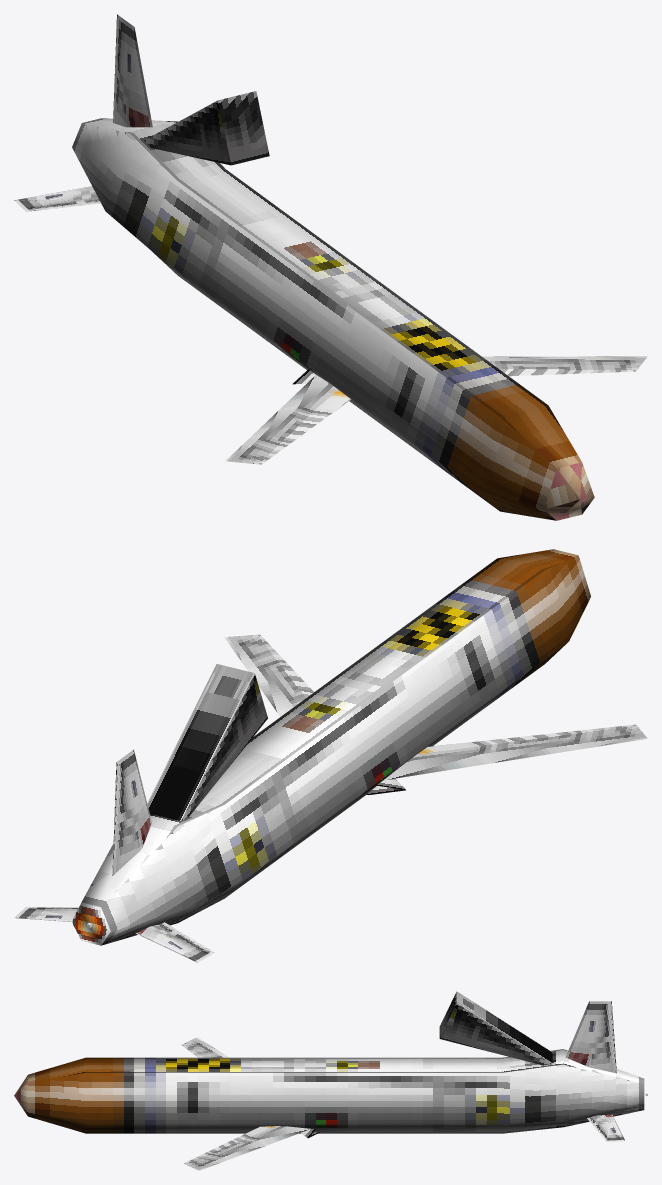
File: mis14.obj
3 views of the same model, one above another, from view 1: azimuth 30°, elevation 25°; view 2: azimuth 150°, elevation 25°; view 3: azimuth 270°, elevation 25° (orthographic). The views are drawn at different scales.
Parts seen in each view (by area): view 1: frm-mfuselg, frm-tafuselg, frm-lwingz1, frm-tafinz, frm-lwingz, frm-alfinz1; view 2: frm-mfuselg, frm-tafuselg, frm-lwingz1, frm-lwingz, frm-tafinz, frm-alfinz1, frm-alfinz; view 3: frm-mfuselg, frm-tafuselg, frm-tafinz, frm-lwingz, frm-alfinz, frm-lwingz1.
Part boxes in pixels (x1=…): frm-mfuselg: x1=72, y1=118, x2=594, y2=520; frm-tafuselg: x1=144, y1=91, x2=269, y2=165; frm-lwingz1: x1=225, y1=375, x2=350, y2=464; frm-tafinz: x1=113, y1=14, x2=152, y2=127; frm-lwingz: x1=292, y1=356, x2=647, y2=384; frm-alfinz1: x1=14, y1=186, x2=100, y2=211; frm-mfuselg: x1=71, y1=549, x2=590, y2=945; frm-tafuselg: x1=147, y1=664, x2=267, y2=820; frm-lwingz1: x1=384, y1=724, x2=647, y2=780; frm-lwingz: x1=224, y1=634, x2=405, y2=794; frm-tafinz: x1=112, y1=749, x2=151, y2=875; frm-alfinz1: x1=135, y1=922, x2=214, y2=962; frm-alfinz: x1=14, y1=907, x2=78, y2=921; frm-mfuselg: x1=14, y1=1049, x2=644, y2=1133; frm-tafuselg: x1=439, y1=991, x2=552, y2=1065; frm-tafinz: x1=565, y1=1001, x2=616, y2=1073; frm-lwingz: x1=184, y1=1126, x2=310, y2=1170; frm-alfinz: x1=587, y1=1114, x2=625, y2=1141; frm-lwingz1: x1=181, y1=1037, x2=319, y2=1138.
Size of the model in its own units: 1.6 by 0.7183 by 3.2.
